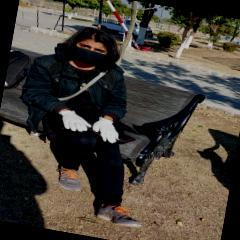gloved: (91, 116, 123, 144), (57, 109, 92, 133)
